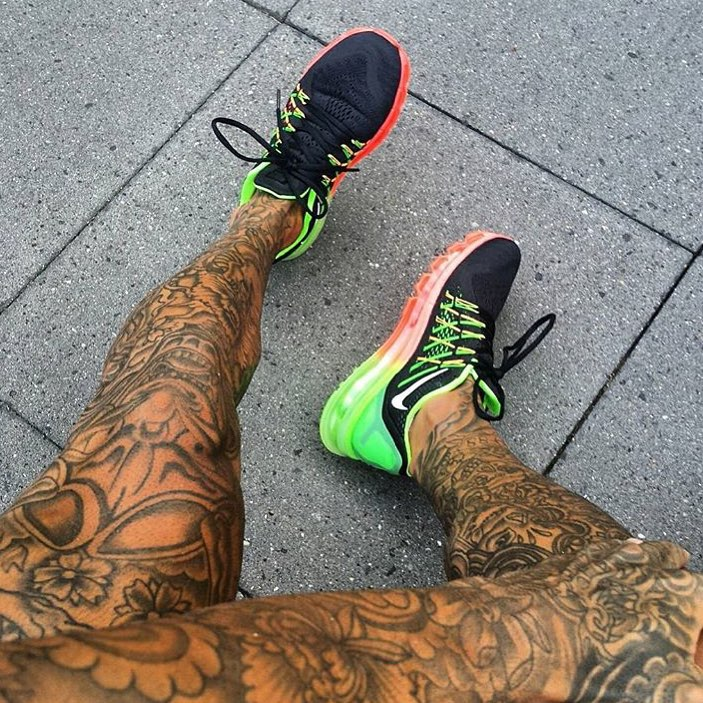sneaker: (299, 213, 571, 489), (203, 12, 427, 281)
